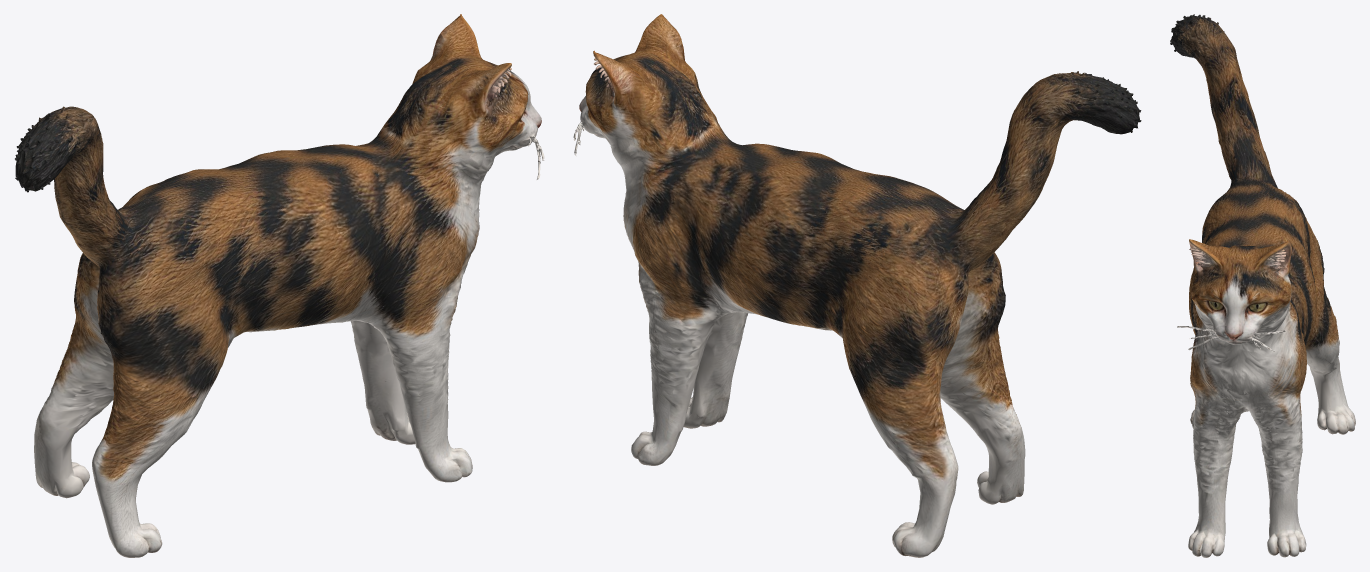
The model's file is GOTAMACAT.glb.
3 renders of one model, left to right at view 1: azimuth 30°, elevation 25°; view 2: azimuth 150°, elevation 25°; view 3: azimuth 270°, elevation 25°, orthographic. The views are drawn at different scales.
Visible parts, largest first — view 1: tripo_node_34ce80a2-6563-4626-a344-edceceb9f9cf; view 2: tripo_node_34ce80a2-6563-4626-a344-edceceb9f9cf; view 3: tripo_node_34ce80a2-6563-4626-a344-edceceb9f9cf.
Part boxes in pixels (<box>): tripo_node_34ce80a2-6563-4626-a344-edceceb9f9cf: <box>15,14,544,557</box>; tripo_node_34ce80a2-6563-4626-a344-edceceb9f9cf: <box>573,14,1141,557</box>; tripo_node_34ce80a2-6563-4626-a344-edceceb9f9cf: <box>1170,14,1355,557</box>.
Bounding box in the file's own units: 1.25 × 0.9997 × 0.4464.
1 material, 1 textured.
